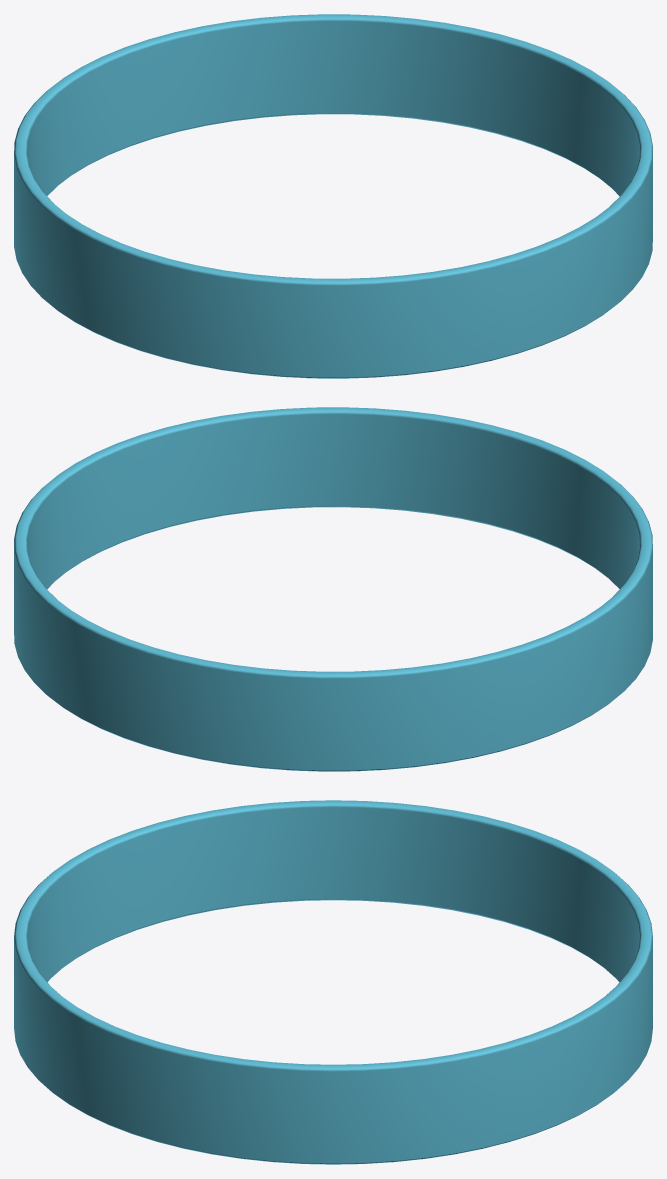
The picture shows the model from 3 angles, top to bottom: view 1: azimuth 30°, elevation 25°; view 2: azimuth 150°, elevation 25°; view 3: azimuth 270°, elevation 25°; orthographic projection.
Visible parts, largest first — view 1: seal_body; view 2: seal_body; view 3: seal_body.
Boxes of the visible parts, x1=… form: seal_body: x1=14, y1=14, x2=652, y2=378; seal_body: x1=14, y1=407, x2=652, y2=771; seal_body: x1=14, y1=800, x2=652, y2=1164.
Size of the model in its own units: 0.1524 by 0.0254 by 0.1524.
